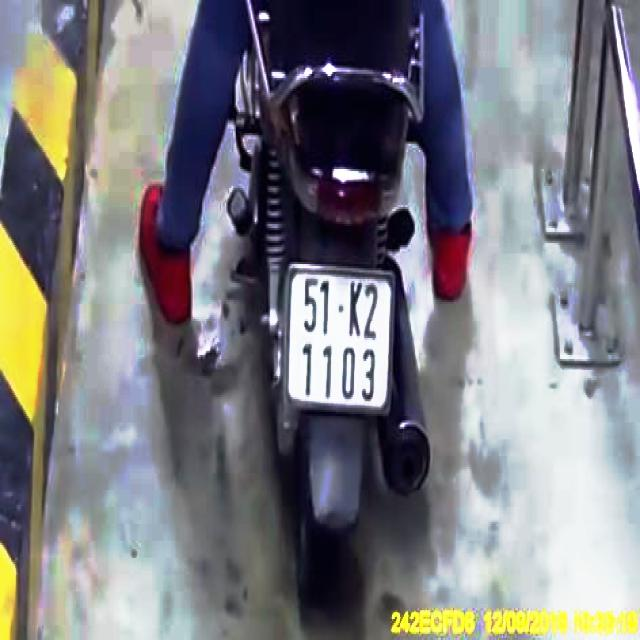license_plate: (284, 264, 397, 413)
